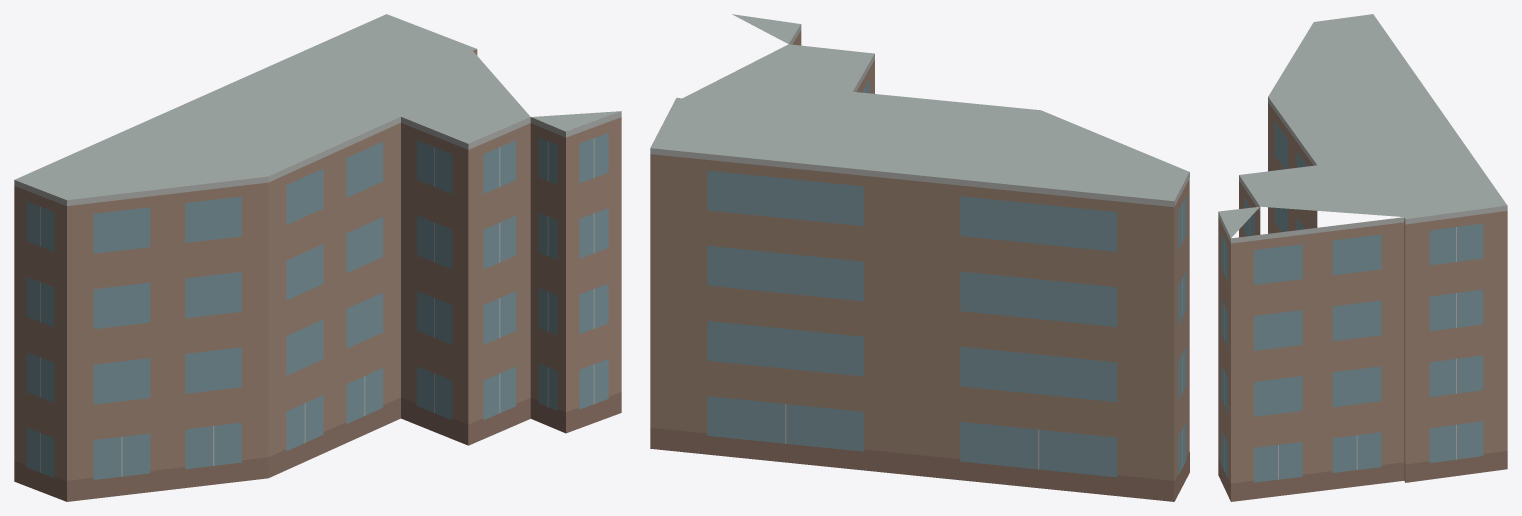
File: survey-upis-32704084.glb
The picture shows the model from 3 angles, left to right: view 1: azimuth 30°, elevation 25°; view 2: azimuth 150°, elevation 25°; view 3: azimuth 270°, elevation 25°; orthographic projection. The views are drawn at different scales.
Visible parts, largest first — view 1: survey-upis-32704084.tmp; view 2: survey-upis-32704084.tmp; view 3: survey-upis-32704084.tmp.
Boxes of the visible parts, <box> form: survey-upis-32704084.tmp: <box>14,14,621,501</box>; survey-upis-32704084.tmp: <box>650,14,1189,501</box>; survey-upis-32704084.tmp: <box>1218,14,1507,501</box>.
Size of the model in its own units: 22.55 by 12.35 by 12.29.
